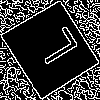L: (25, 24, 80, 72)
